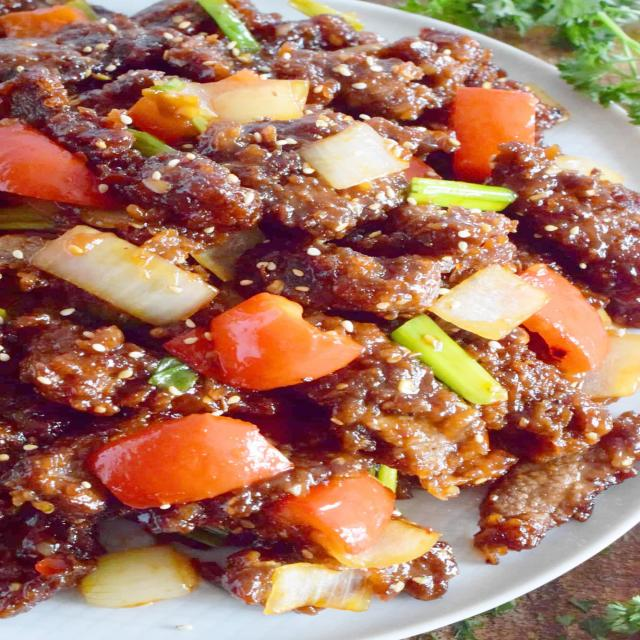Beijing Beef: (4, 2, 638, 618)
